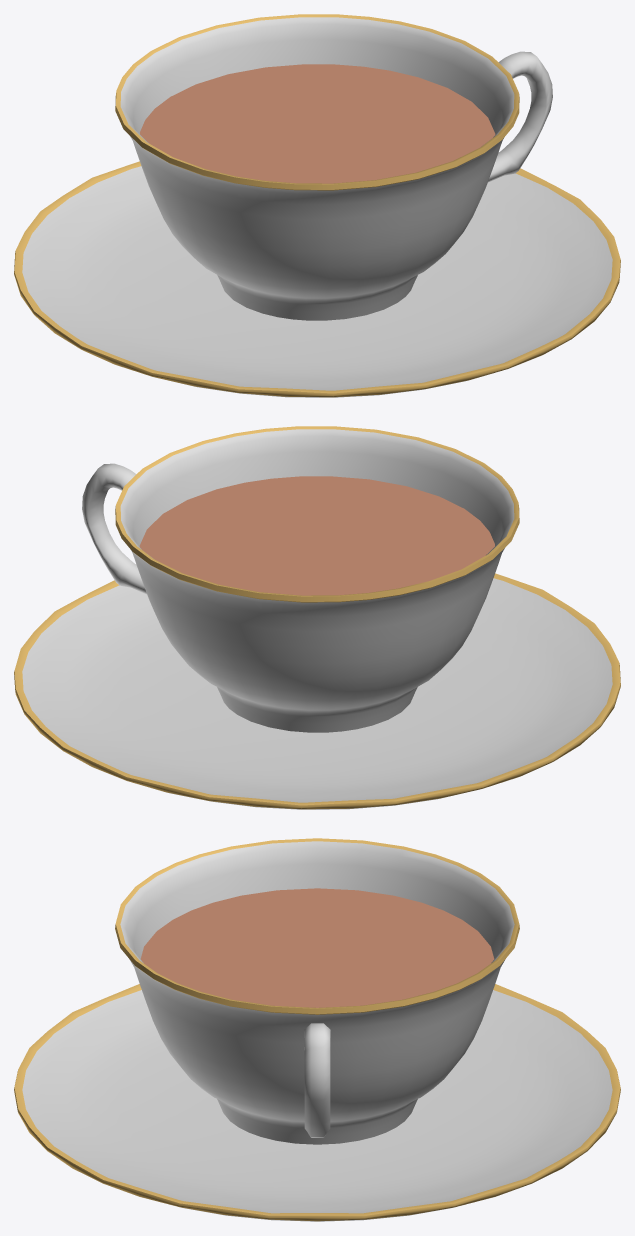
The model's file is toy_teacup.glb.
3 views of the same model, one above another, from view 1: azimuth 30°, elevation 25°; view 2: azimuth 150°, elevation 25°; view 3: azimuth 270°, elevation 25° (orthographic).
Visible parts, largest first — view 1: toy_teacup; view 2: toy_teacup; view 3: toy_teacup.
Boxes of the visible parts, bbox=[...] form: toy_teacup: bbox=[14, 14, 620, 397]; toy_teacup: bbox=[14, 426, 620, 809]; toy_teacup: bbox=[14, 838, 620, 1221].
Size of the model in its own units: 16.63 by 6 by 16.63.
